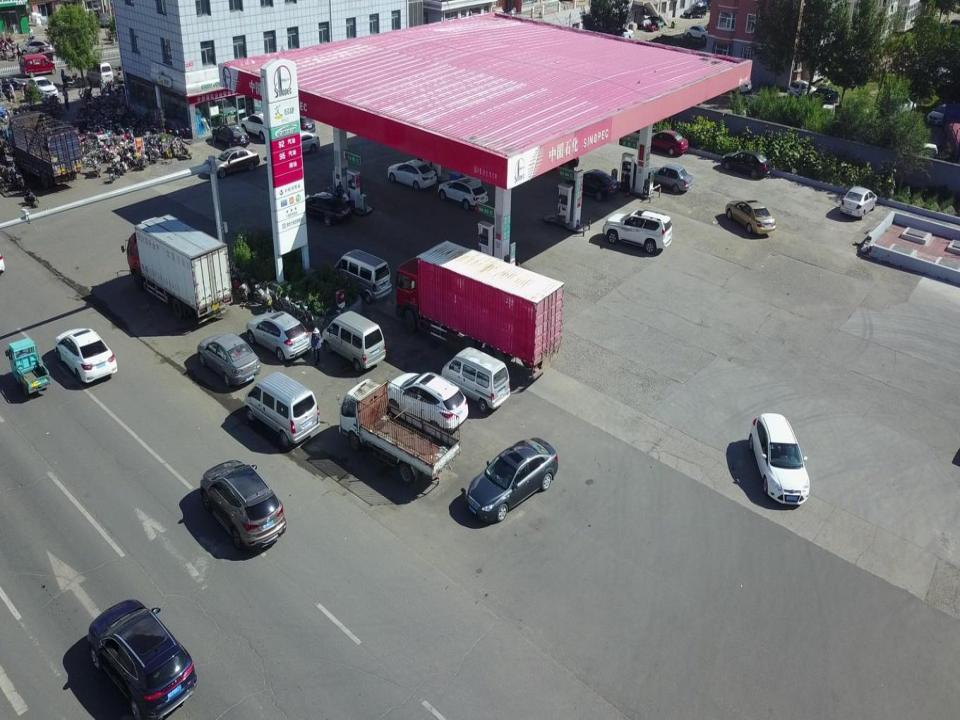bus: (945, 122, 960, 164)
car: (87, 598, 197, 720), (462, 438, 558, 523), (199, 459, 286, 550), (747, 412, 810, 505), (386, 371, 468, 433), (54, 328, 118, 384), (197, 331, 261, 386), (601, 209, 672, 255), (246, 312, 310, 362), (298, 192, 353, 226), (725, 199, 776, 235), (568, 166, 620, 200), (638, 164, 695, 195), (720, 148, 771, 182), (438, 177, 489, 210), (211, 146, 260, 180), (387, 158, 437, 190), (840, 185, 878, 222), (646, 130, 690, 157), (239, 113, 276, 143), (280, 131, 320, 158), (212, 124, 250, 150), (283, 109, 316, 135), (26, 76, 59, 99), (888, 93, 917, 117), (718, 75, 752, 95), (926, 103, 954, 127), (812, 86, 841, 106), (786, 80, 814, 99), (30, 44, 59, 62), (19, 40, 51, 56), (609, 26, 635, 44), (683, 2, 707, 19), (684, 26, 710, 40), (114, 63, 130, 82), (97, 12, 110, 26)
truck: (396, 241, 562, 375), (334, 377, 462, 485), (122, 214, 232, 324), (0, 109, 82, 185)
van: (241, 372, 320, 449), (438, 347, 510, 414), (321, 310, 386, 370), (334, 248, 392, 304), (19, 55, 57, 77), (86, 63, 113, 84)
